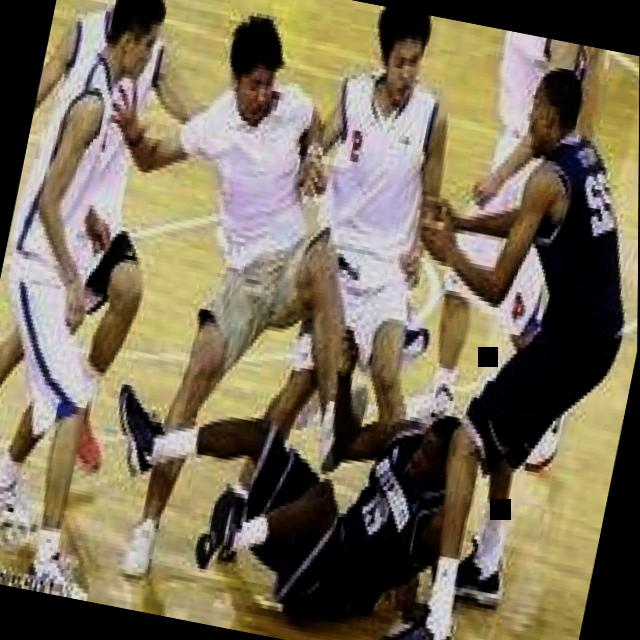Fall-Detected: (79, 319, 510, 640)
